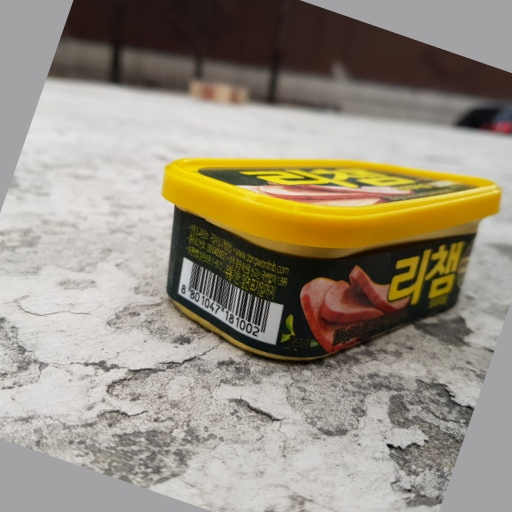Metal_2: (162, 147, 501, 361)
